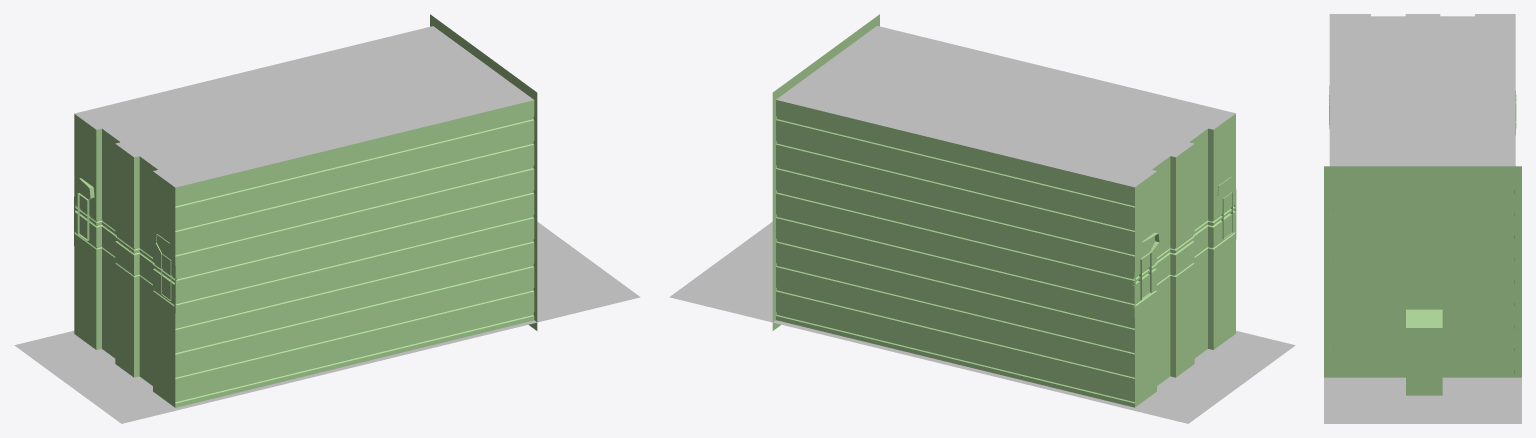
The picture shows the model from 3 angles, left to right: view 1: azimuth 30°, elevation 25°; view 2: azimuth 150°, elevation 25°; view 3: azimuth 270°, elevation 25°; orthographic projection. The views are drawn at different scales.
Parts seen in each view (by area): view 1: Cube, Cube.002; view 2: Cube, Cube.002; view 3: Cube.002, Cube.
Part boxes in pixels (left/top/right/bottom): Cube: left=14, top=26, right=640, bottom=423; Cube.002: left=430, top=14, right=537, bottom=330; Cube: left=669, top=26, right=1295, bottom=423; Cube.002: left=772, top=14, right=879, bottom=330; Cube.002: left=1324, top=166, right=1521, bottom=395; Cube: left=1324, top=14, right=1521, bottom=423.
Bounding box in the file's own units: 4015 × 1763 × 1440.
